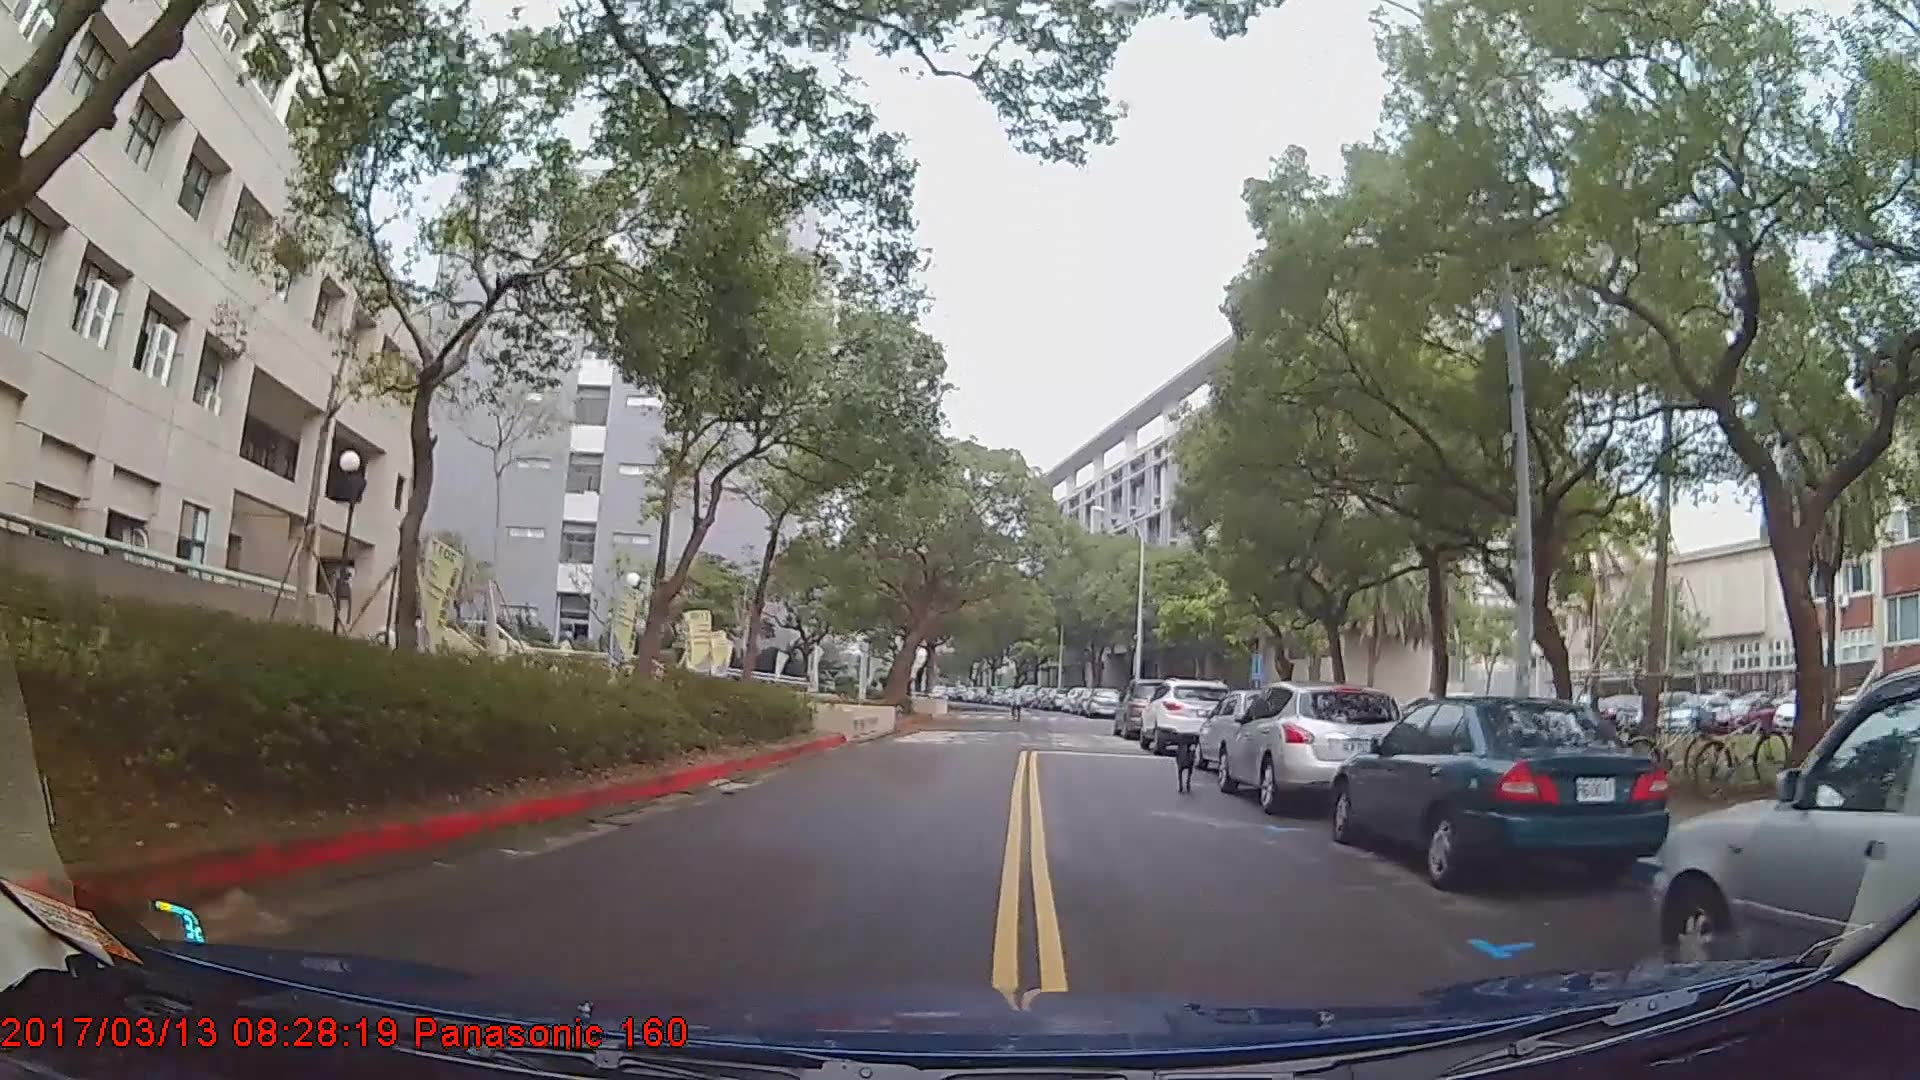pedestrian: (1006, 683, 1026, 723)
vehicle: (1654, 660, 1920, 999), (1329, 692, 1672, 887), (1214, 681, 1407, 813), (1140, 677, 1235, 753), (1114, 678, 1184, 740), (1084, 681, 1122, 714)
